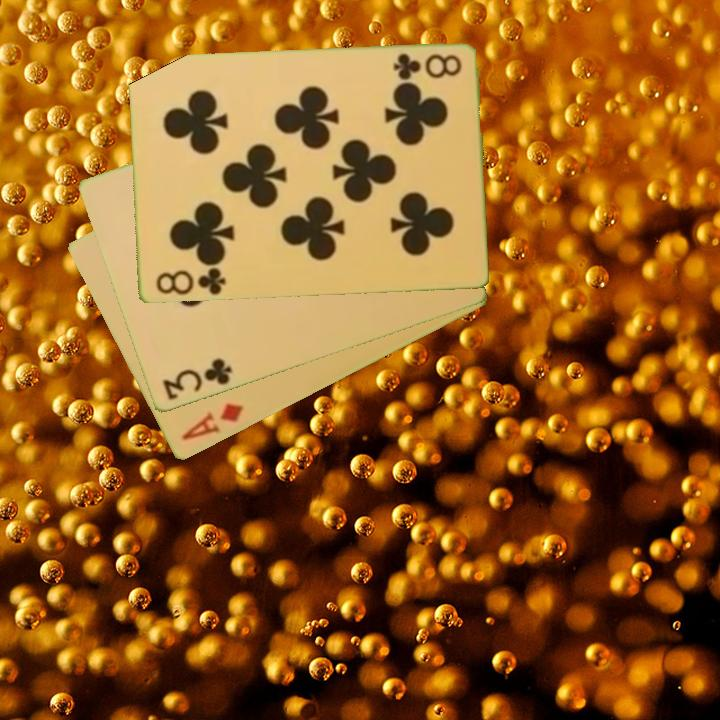3c: (158, 355, 235, 403)
8c: (152, 262, 228, 299), (389, 51, 464, 83)
Ad: (178, 400, 247, 444)
